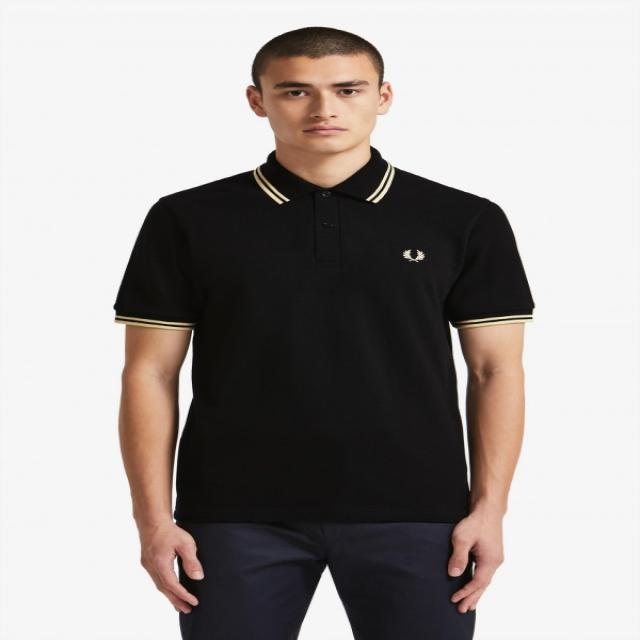mobile_phonerotation: (112, 25, 537, 638)
